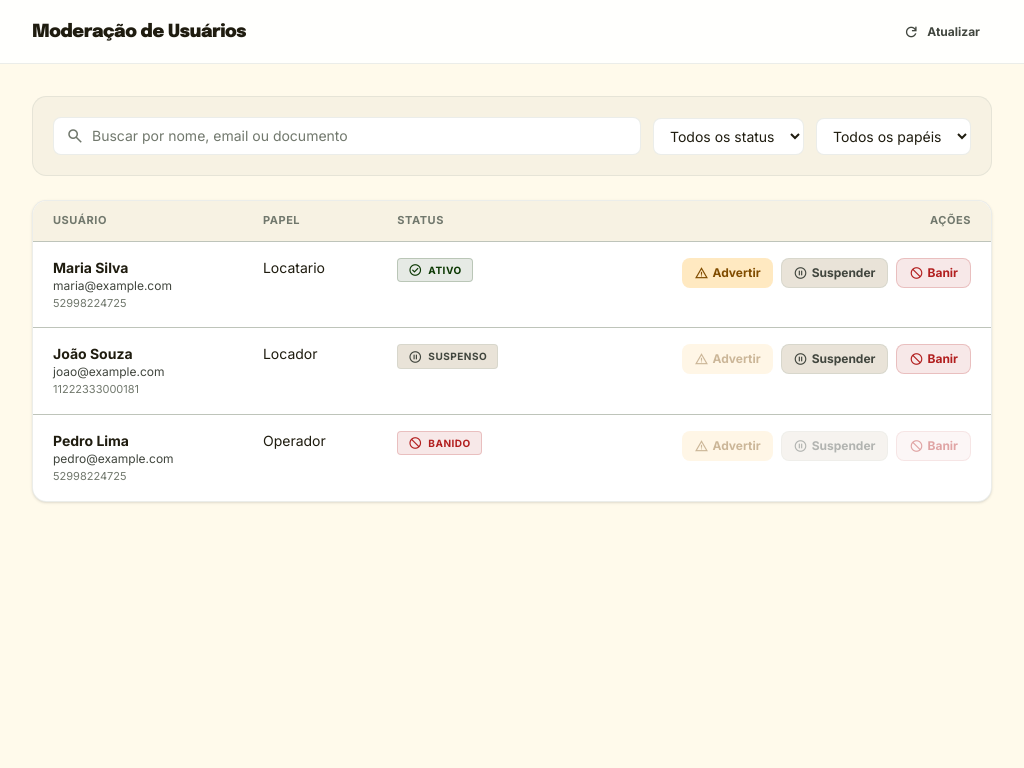
Test: confirms the {} action against the chosen user before applying it
Expected: the text "Maria Silva" is shown, x1=53 y1=259 x2=128 y2=276
What coordinates should you click on to do the following:
click the button "Advertir" in the row of "Maria Silva"
I would click on:
 (728, 273)
Its box is x1=682 y1=258 x2=773 y2=288.
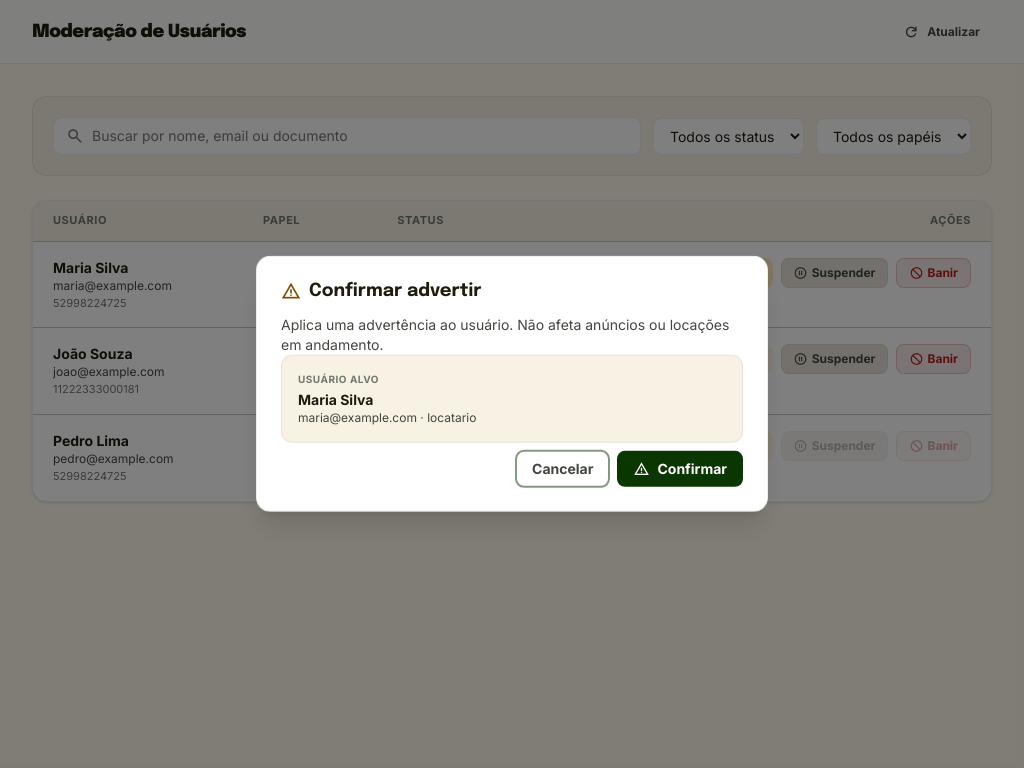
Expected: the heading "Confirmar advertir" is shown, x1=281 y1=279 x2=482 y2=303
Expected: the text "maria@example.com · locatario" is shown, x1=298 y1=410 x2=476 y2=425
What coordinates should you click on to do the following:
click the button "Confirmar"
I would click on:
 (680, 469)
Its box is x1=617 y1=451 x2=743 y2=487.
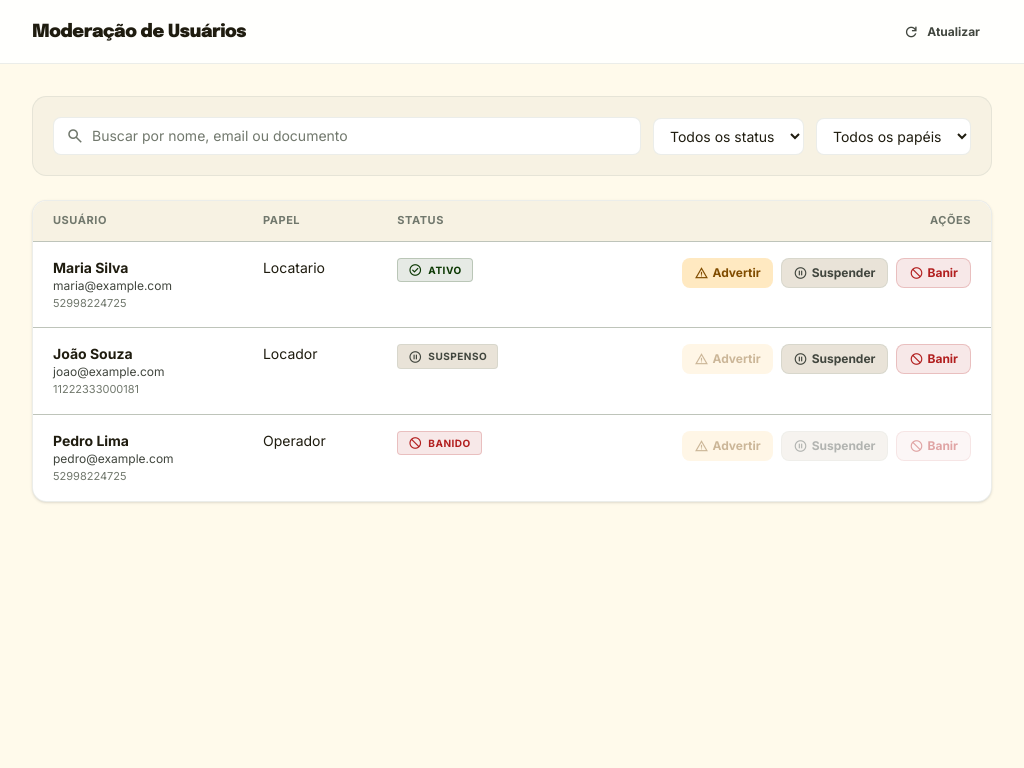
Expected: the dialog is gone
